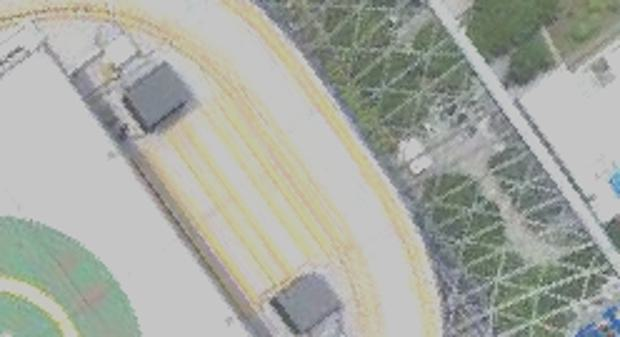Apron: (1, 275, 80, 334)
